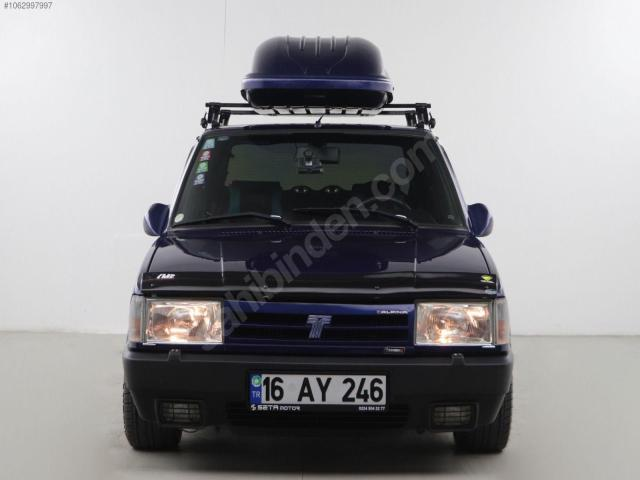plaka: (250, 373, 386, 411)
